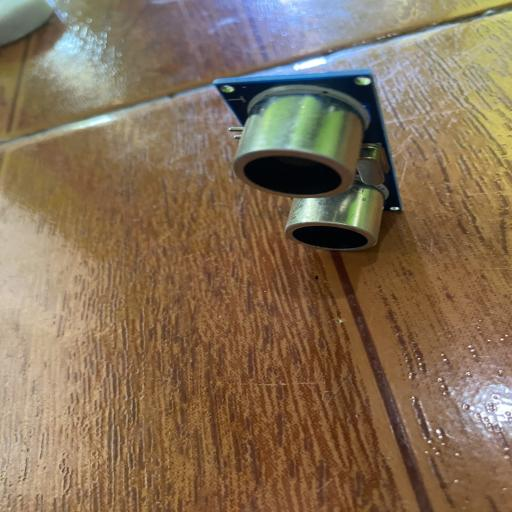Ultrasonic Sensor: (212, 67, 404, 251)
